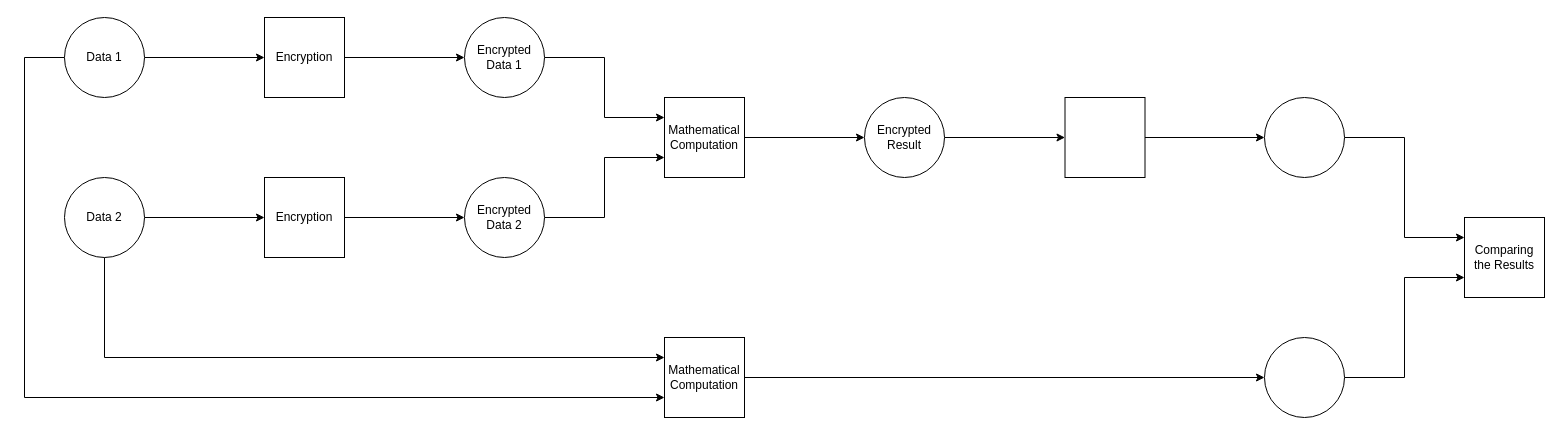
Some shapes in this 1562 by 435 pixel diagram are drawn without their labels. The shapes that lost their labels are listed below. From the top down, each one's box as (x1, y1, x2, y2) in pixels, then its label:
(1064, 96, 1145, 178): Decryption
(1264, 96, 1344, 178): Decrypted Result
(1264, 336, 1344, 418): Result
